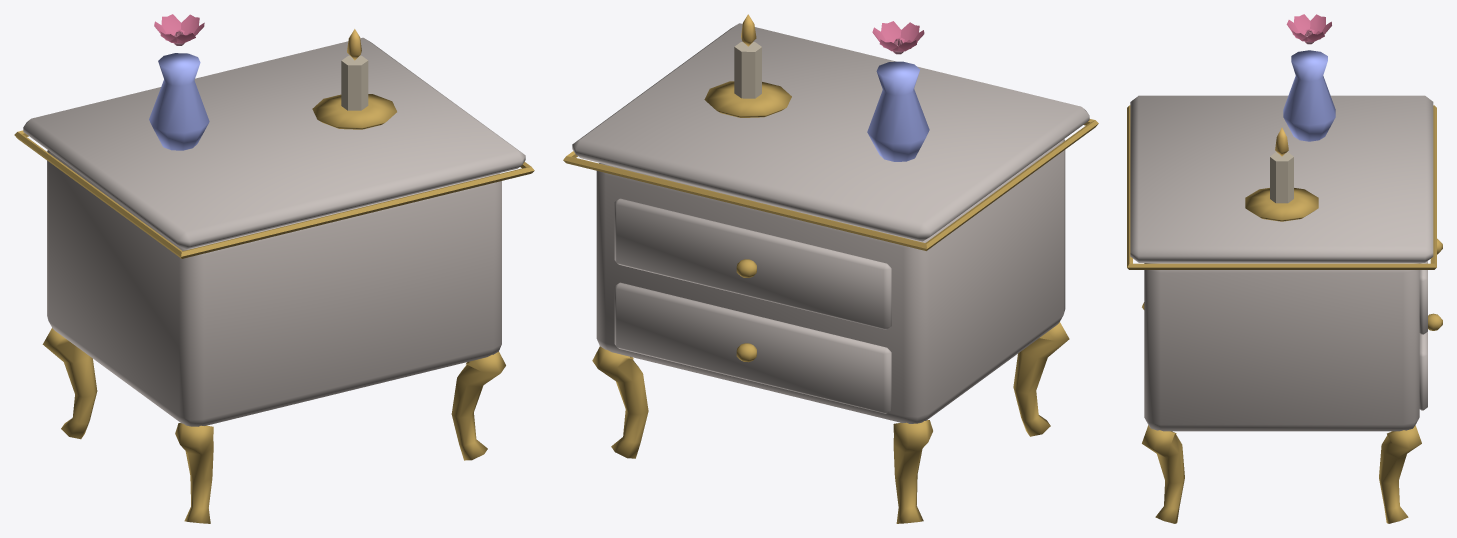
File: nightstand.glb
3 renders of one model, left to right at view 1: azimuth 30°, elevation 25°; view 2: azimuth 150°, elevation 25°; view 3: azimuth 270°, elevation 25°, orthographic. The views are drawn at different scales.
Parts seen in each view (by area): view 1: nightstand; view 2: nightstand; view 3: nightstand.
Boxes of the visible parts, <box> form: nightstand: <box>14,14,534,523</box>; nightstand: <box>563,14,1098,523</box>; nightstand: <box>1127,14,1442,523</box>.
Size of what is drawn, in the model's own units: 0.6 by 0.7 by 0.5.
